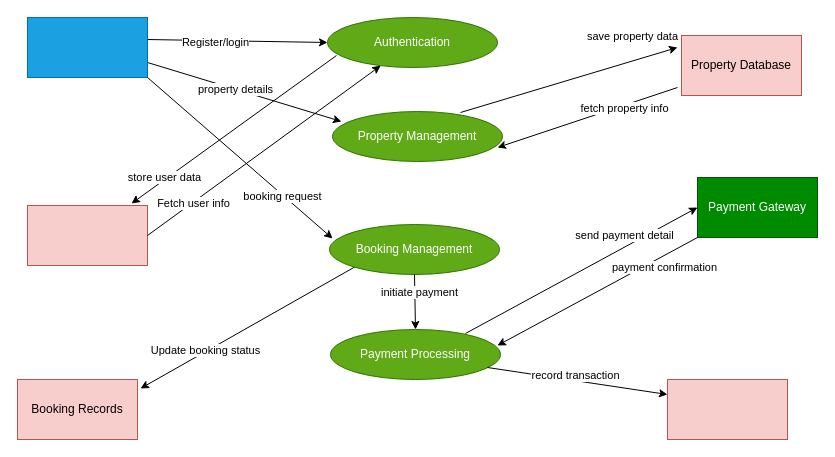
Some shapes in this 835 by 457 pixel diagram are drawn without their labels. Here are the shapes that lost their labels. From the top down, the box of each, then its label:
(26, 16, 148, 78): User
(26, 204, 148, 266): User Database
(666, 378, 788, 440): Payment Records
